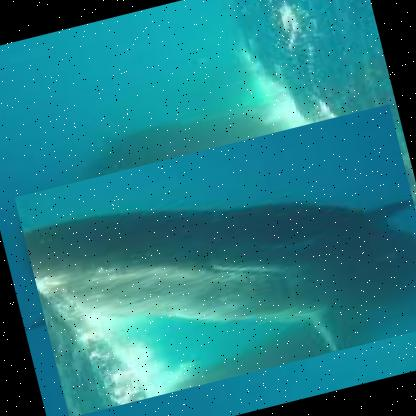sperm_whale: (12, 104, 415, 415)
